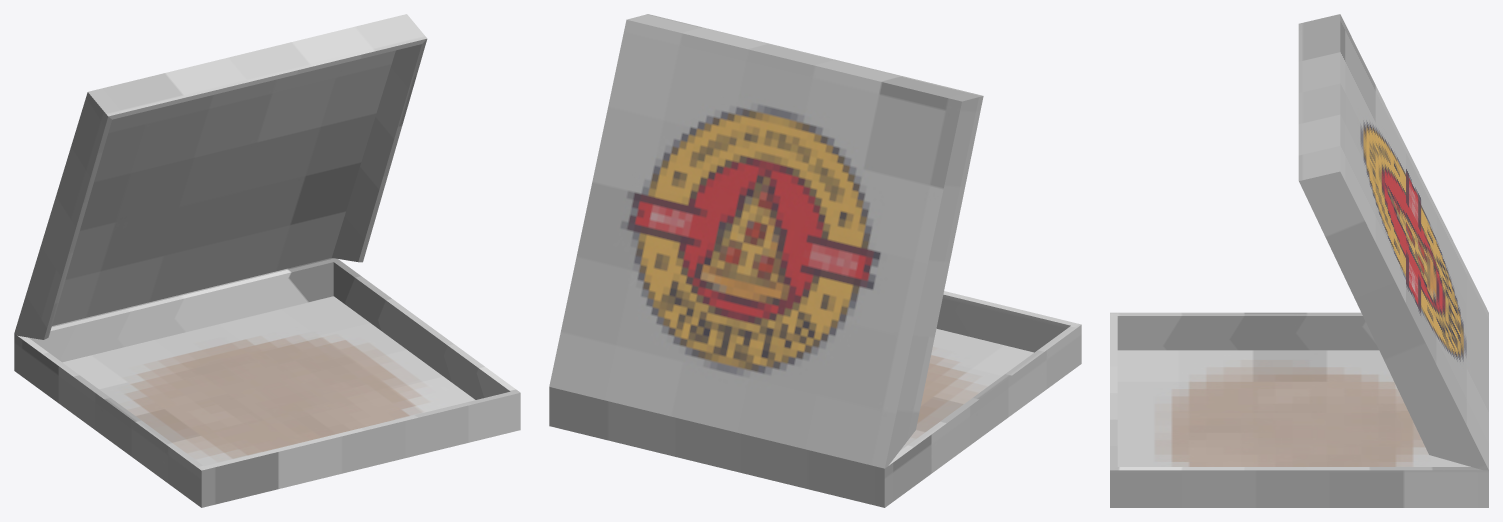
The model's file is SM_PizzaBox_Open.fbx.
3 views of the same model, side by side, from view 1: azimuth 30°, elevation 25°; view 2: azimuth 150°, elevation 25°; view 3: azimuth 270°, elevation 25° (orthographic). The views are drawn at different scales.
Parts seen in each view (by area): view 1: SM_PizzaBox_Open; view 2: SM_PizzaBox_Open; view 3: SM_PizzaBox_Open.
Boxes of the visible parts, x1,y1,x2,y2 form: SM_PizzaBox_Open: (14, 14, 520, 507); SM_PizzaBox_Open: (549, 14, 1081, 507); SM_PizzaBox_Open: (1110, 14, 1488, 507).
Bounding box in the file's own units: 59.84 × 59.61 × 60.83.
1 material, 1 textured.
